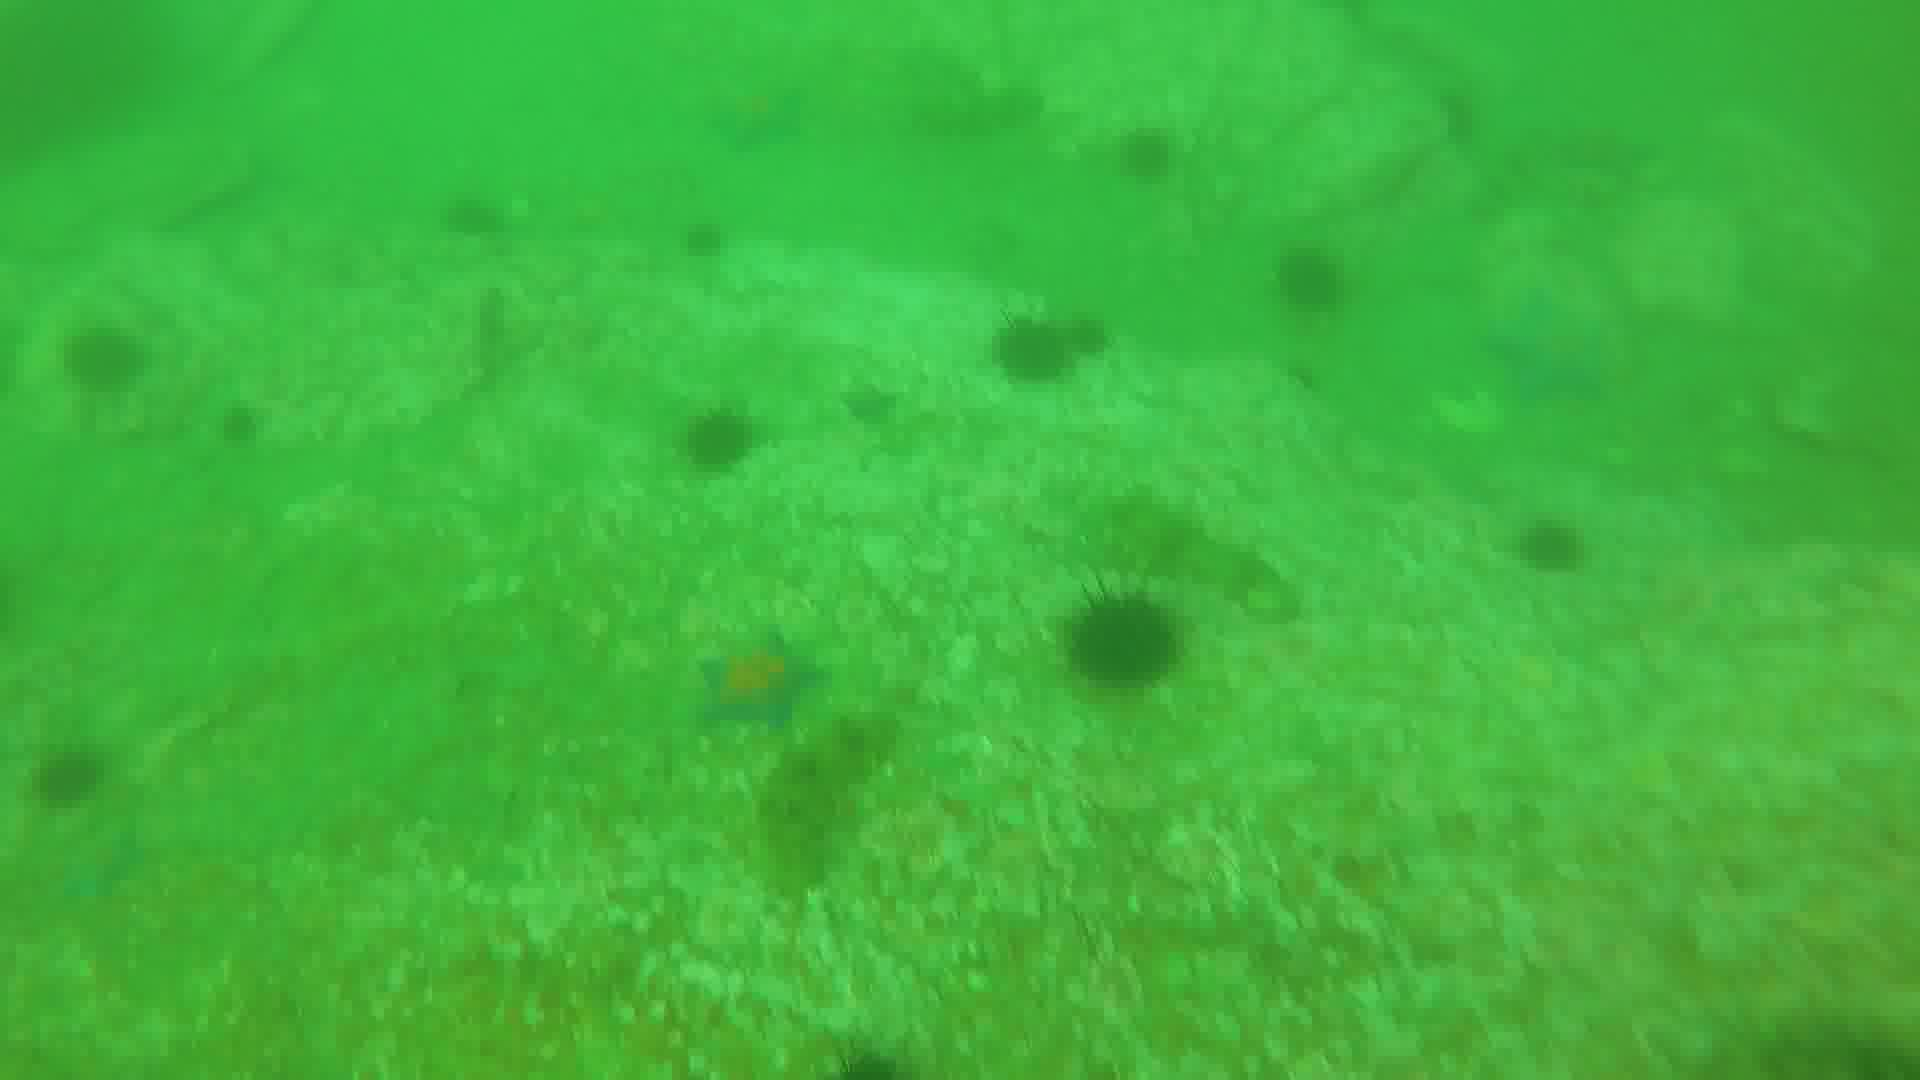echinus: (1062, 578, 1192, 702), (989, 315, 1073, 381), (684, 409, 762, 477), (1287, 243, 1353, 309), (436, 189, 512, 244), (73, 338, 144, 393), (37, 748, 102, 808), (1514, 521, 1592, 570), (828, 1042, 913, 1080), (1116, 135, 1176, 177), (686, 224, 731, 276), (222, 401, 268, 450), (1058, 315, 1114, 351)
holothurian: (769, 679, 905, 914), (1089, 484, 1302, 620)
starfish: (1501, 294, 1611, 407), (53, 820, 160, 913), (708, 640, 812, 725), (839, 386, 899, 435)
